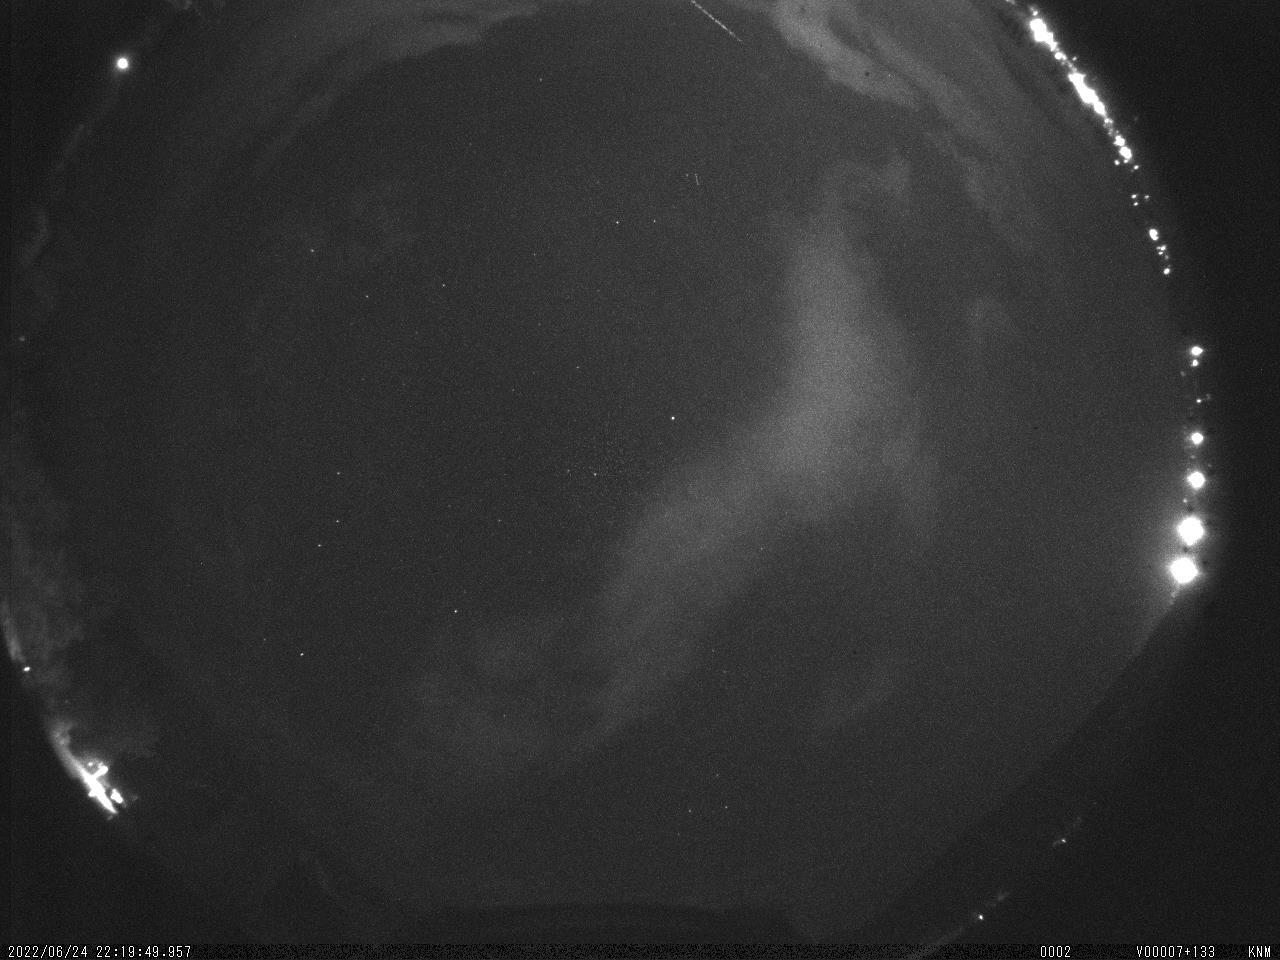Meteor: (686, 0, 752, 48)
